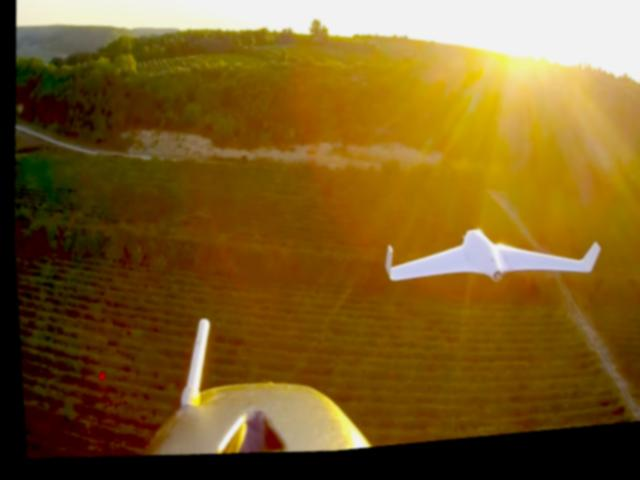plane: (377, 222, 598, 307)
